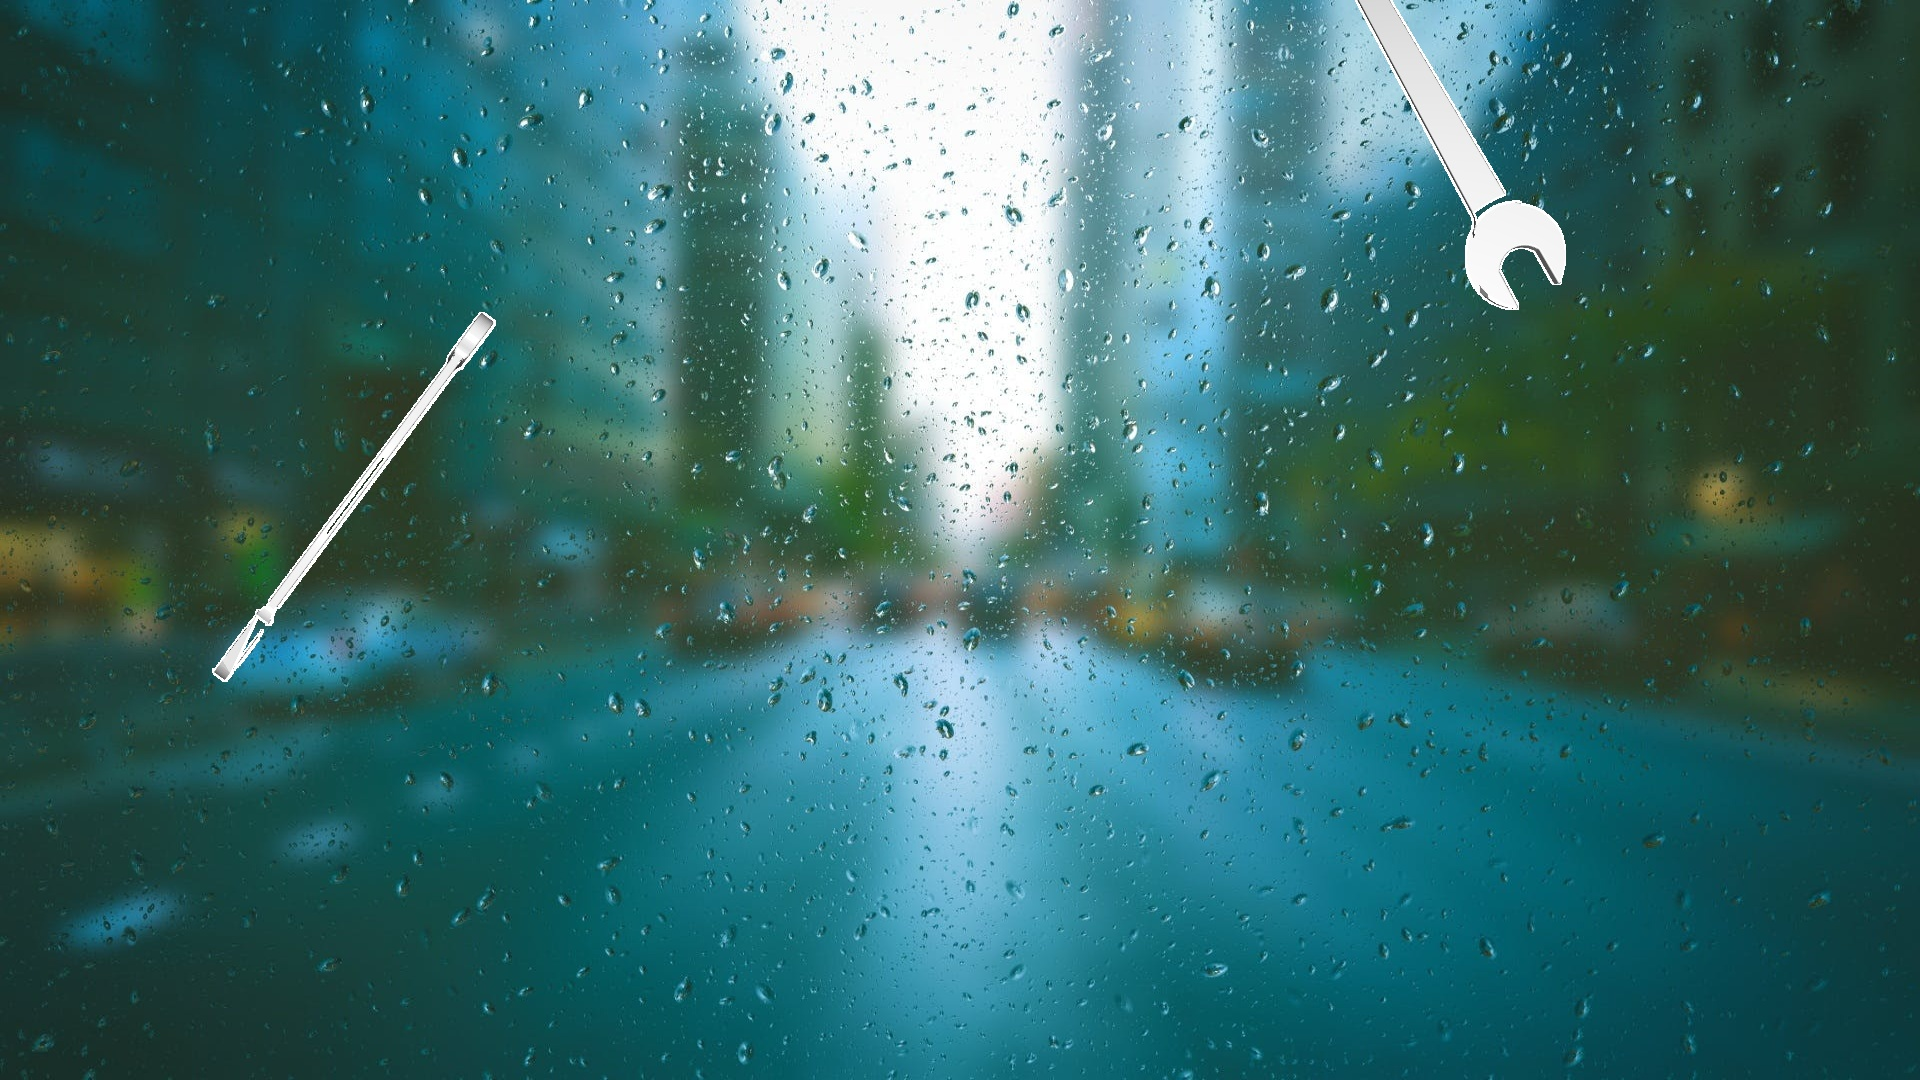Mixed Key: (212, 313, 495, 680), (1356, 0, 1565, 309)
